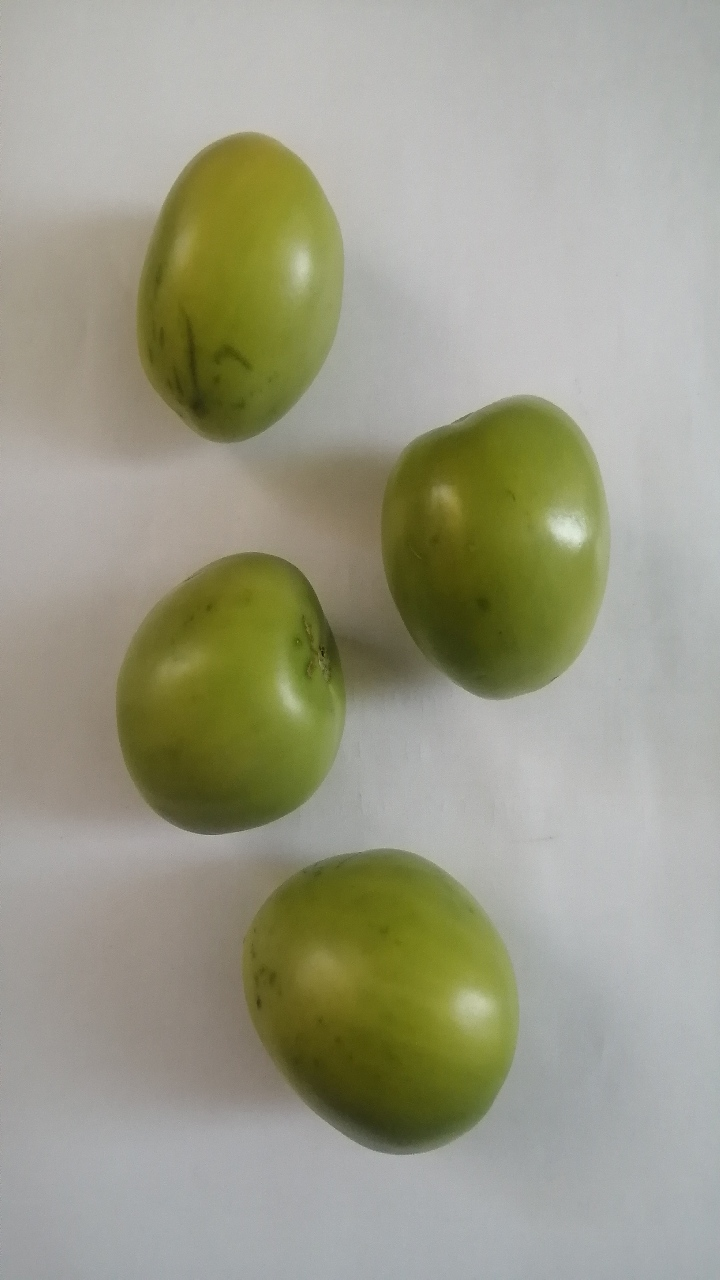tomateVerde: (206, 831, 521, 1171), (349, 366, 620, 737), (94, 537, 360, 872), (123, 119, 363, 451)
